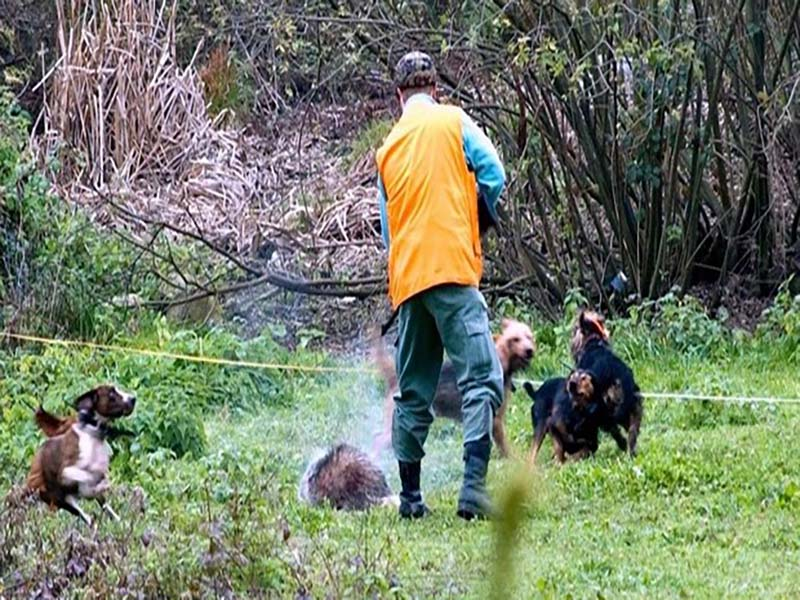cacciatore: (369, 51, 524, 522)
cane da caccia: (15, 375, 156, 512), (519, 363, 606, 454), (493, 321, 548, 442), (557, 307, 648, 368)
cinghiale: (292, 437, 395, 522)
